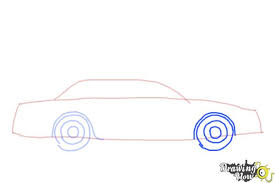car: (7, 64, 267, 158)
